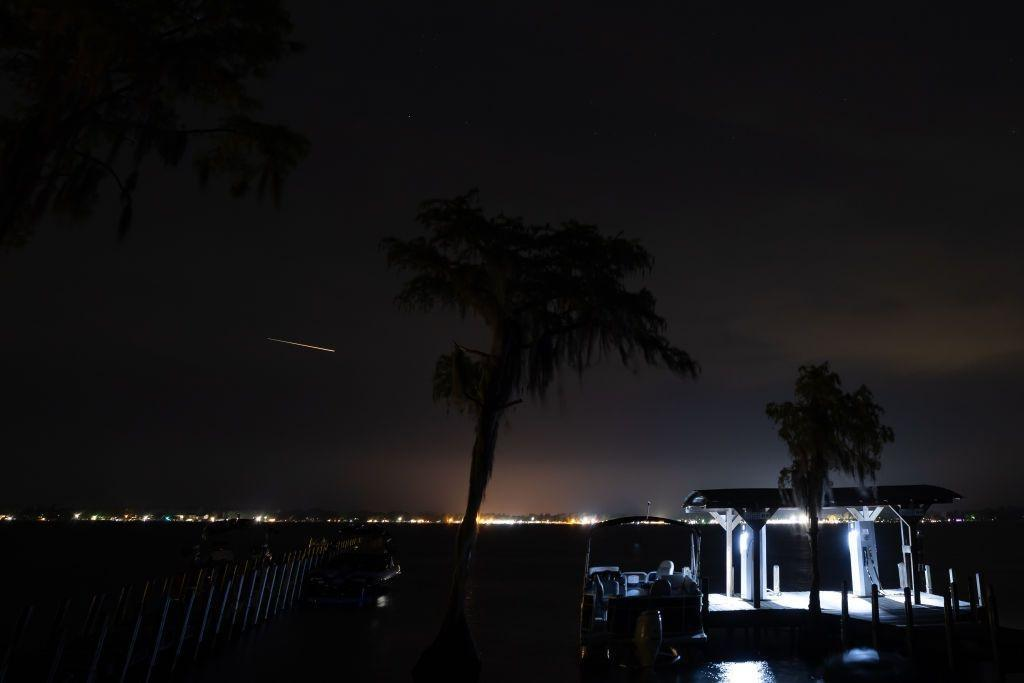meteorite: (237, 328, 358, 363)
